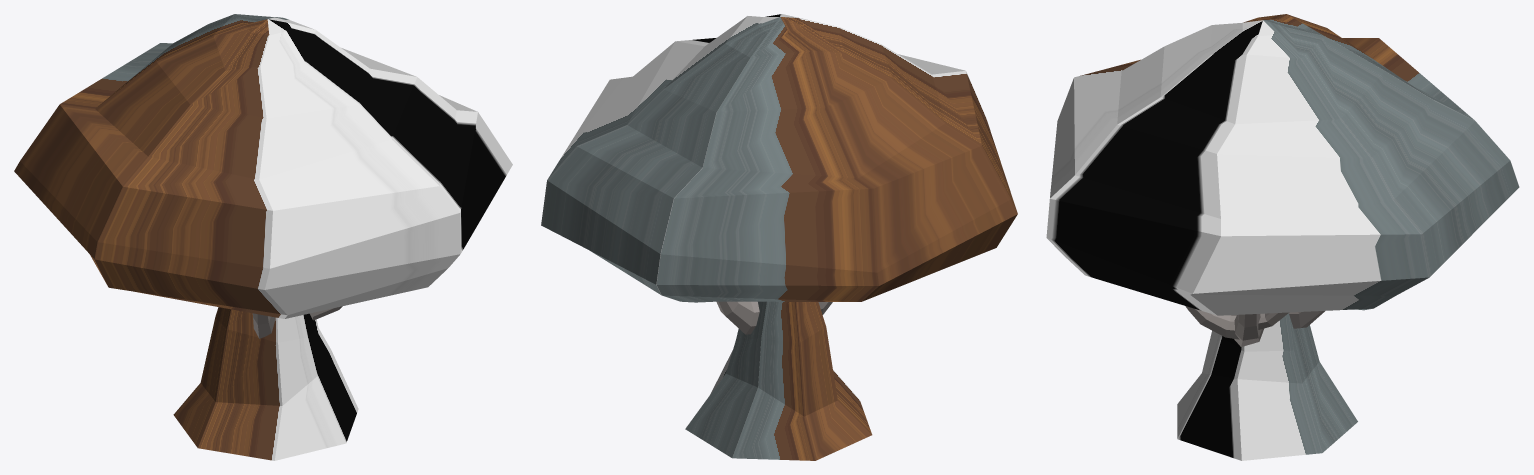
The model's file is arbol1.obj.
3 renders of one model, left to right at view 1: azimuth 30°, elevation 25°; view 2: azimuth 150°, elevation 25°; view 3: azimuth 270°, elevation 25°, orthographic.
Visible parts, largest first — view 1: Circle_005; view 2: Circle_005; view 3: Circle_005.
Boxes of the visible parts, bbox=[...] form: Circle_005: bbox=[14, 14, 512, 460]; Circle_005: bbox=[541, 14, 1017, 460]; Circle_005: bbox=[1046, 14, 1519, 460].
Size of the model in its own units: 235 by 218 by 233.
1 material, 1 textured.
